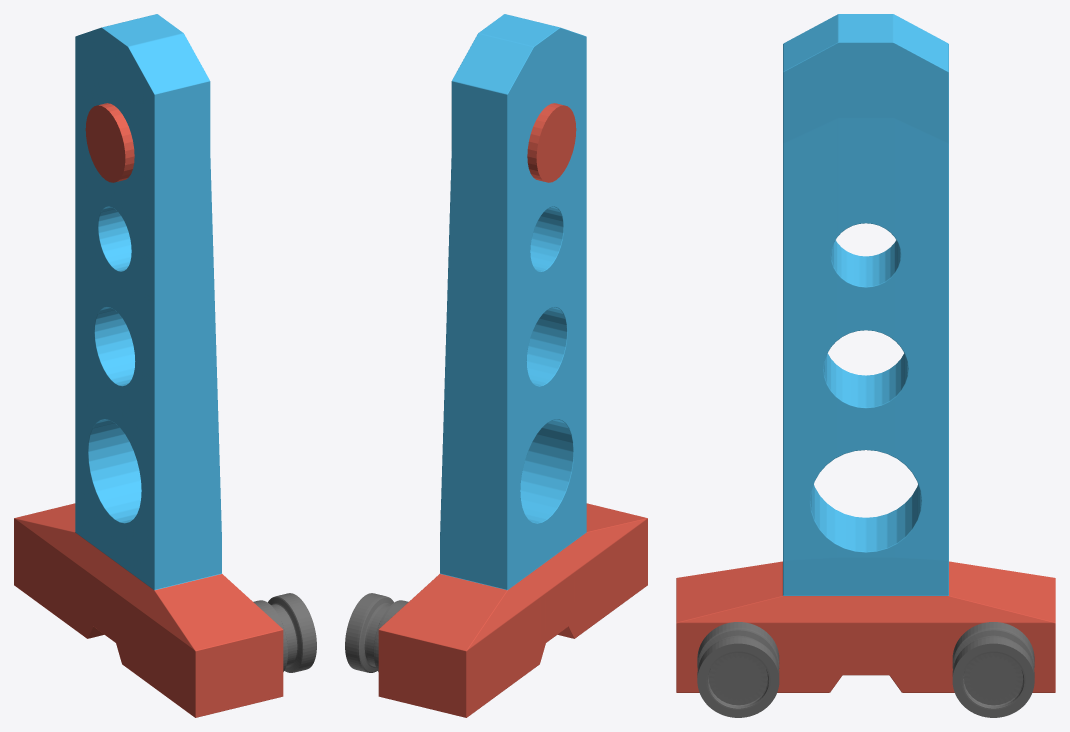
Rendered from PlayerLeg.fbx.
The picture shows the model from 3 angles, left to right: view 1: azimuth 30°, elevation 25°; view 2: azimuth 150°, elevation 25°; view 3: azimuth 270°, elevation 25°; orthographic projection. The views are drawn at different scales.
Parts seen in each view (by area): view 1: Cube.001, Cylinder.001, Cylinder.011; view 2: Cube.001, Cylinder.001, Cylinder.010; view 3: Cube.001, Cylinder.010, Cylinder.011.
Boxes of the visible parts, x1=… form: Cube.001: x1=14, y1=14, x2=283, y2=717; Cylinder.001: x1=85, y1=103, x2=134, y2=182; Cylinder.011: x1=253, y1=593, x2=316, y2=672; Cube.001: x1=378, y1=14, x2=647, y2=717; Cylinder.001: x1=527, y1=103, x2=576, y2=182; Cylinder.010: x1=345, y1=593, x2=408, y2=672; Cube.001: x1=676, y1=14, x2=1055, y2=692; Cylinder.010: x1=952, y1=622, x2=1034, y2=717; Cylinder.011: x1=697, y1=622, x2=779, y2=717.
Bounding box in the file's own units: 286 × 1277 × 684.
